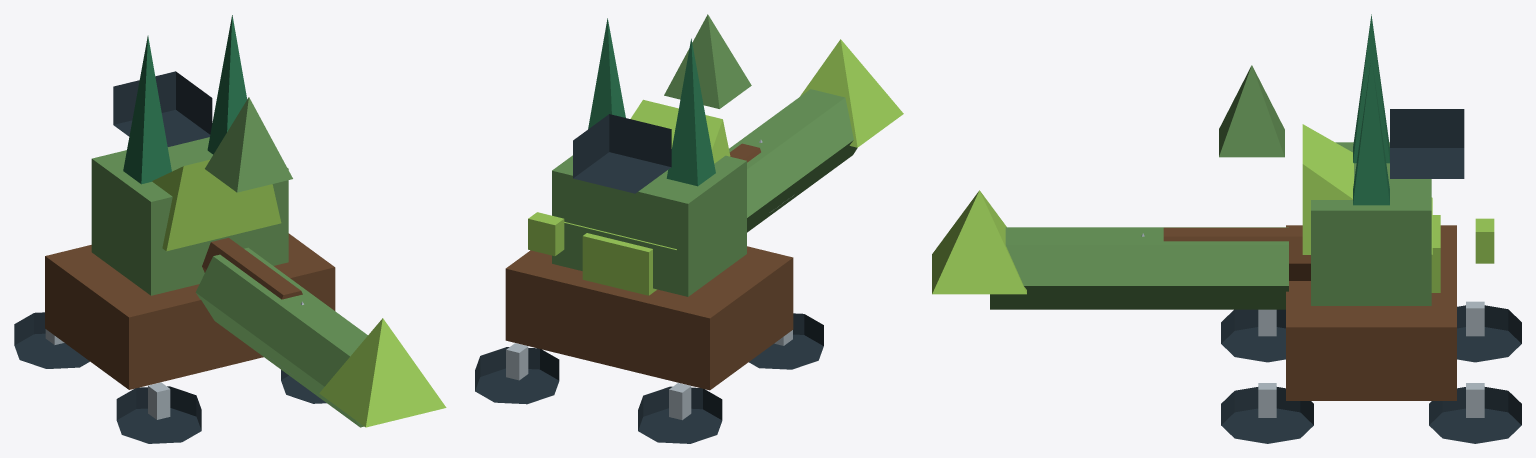
The model's file is battering-ram.obj.
3 renders of one model, left to right at view 1: azimuth 30°, elevation 25°; view 2: azimuth 150°, elevation 25°; view 3: azimuth 270°, elevation 25°, orthographic. The views are drawn at different scales.
Visible parts, largest first — view 1: siege; view 2: siege; view 3: siege.
Boxes of the visible parts, x1,y1,x2,y2 form: siege: (14,15,446,443); siege: (475,14,903,443); siege: (932,14,1521,443).
Size of the model in its own units: 1.36 by 1.87 by 2.86.
